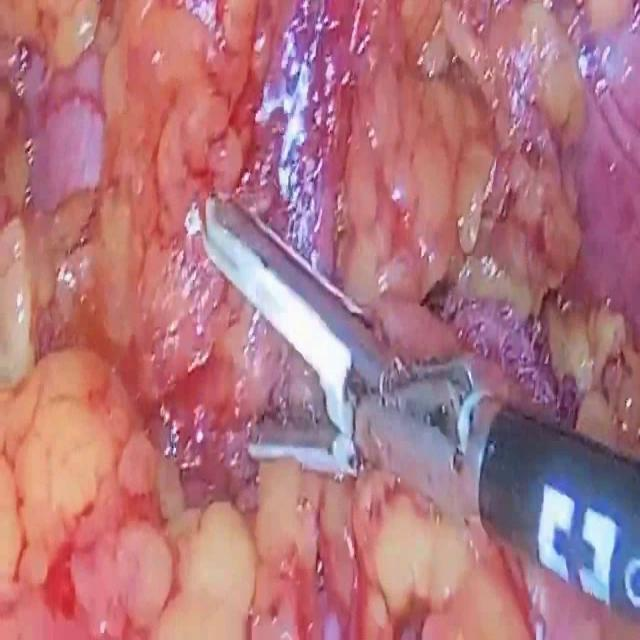surgical-tool: (200, 187, 640, 616)
